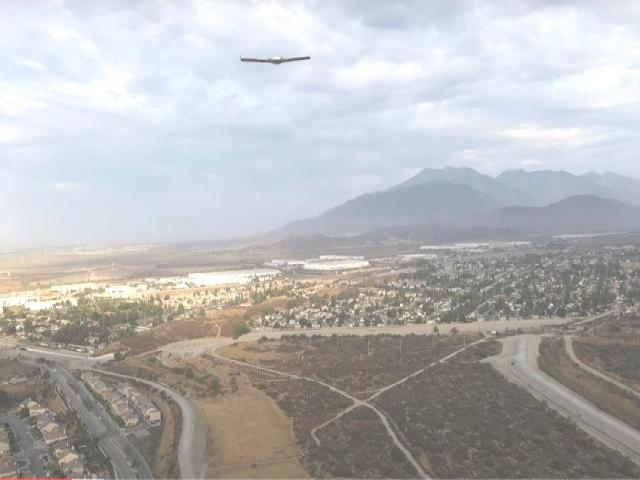iha: (240, 49, 313, 69)
